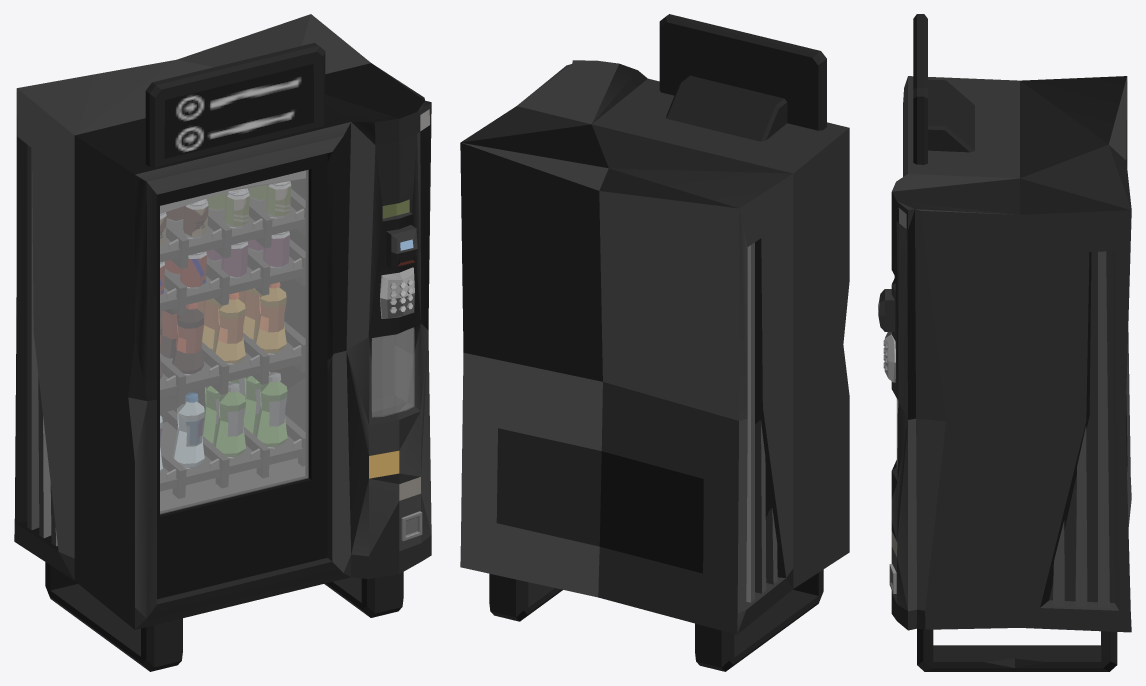
File: SM_Prop_Vending_Machine_01.fbx
3 renders of one model, left to right at view 1: azimuth 30°, elevation 25°; view 2: azimuth 150°, elevation 25°; view 3: azimuth 270°, elevation 25°, orthographic. The views are drawn at different scales.
Visible parts, largest first — view 1: SM_Prop_Vending_Machine_01, SM_Prop_Vending_Machine_01_Sign; view 2: SM_Prop_Vending_Machine_01, SM_Prop_Vending_Machine_01_Sign; view 3: SM_Prop_Vending_Machine_01, SM_Prop_Vending_Machine_01_Sign.
Boxes of the visible parts, x1,y1,x2,y2 form: SM_Prop_Vending_Machine_01: [14, 14, 431, 671]; SM_Prop_Vending_Machine_01_Sign: [145, 42, 325, 167]; SM_Prop_Vending_Machine_01: [460, 60, 849, 671]; SM_Prop_Vending_Machine_01_Sign: [659, 14, 826, 141]; SM_Prop_Vending_Machine_01: [878, 76, 1131, 671]; SM_Prop_Vending_Machine_01_Sign: [913, 14, 974, 164].
Bounding box in the file's own units: 129 × 242 × 102.
